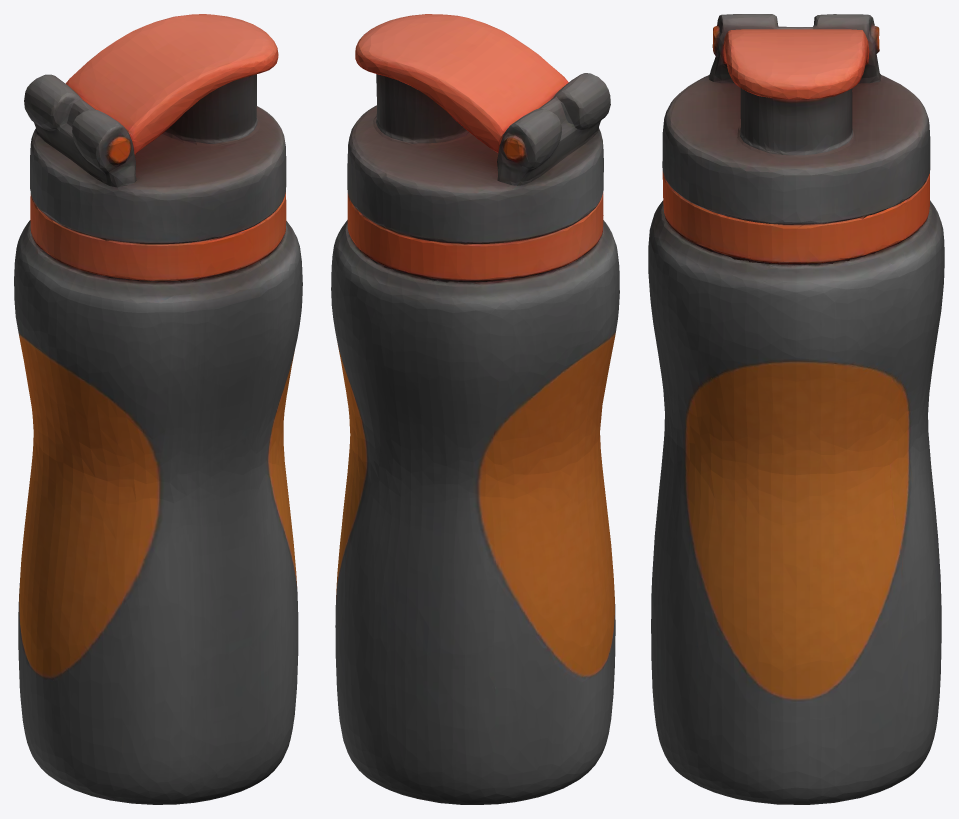
The model's file is bottle.glb.
3 renders of one model, left to right at view 1: azimuth 30°, elevation 25°; view 2: azimuth 150°, elevation 25°; view 3: azimuth 270°, elevation 25°, orthographic. The views are drawn at different scales.
Parts seen in each view (by area): view 1: geometry_0; view 2: geometry_0; view 3: geometry_0.
Boxes of the visible parts, left/top/right/bottom form: geometry_0: left=14, top=14, right=302, bottom=804; geometry_0: left=331, top=14, right=619, bottom=804; geometry_0: left=648, top=14, right=944, bottom=804.
Size of the model in its own units: 0.37 by 0.9999 by 0.3682.
1 material, 1 textured.
